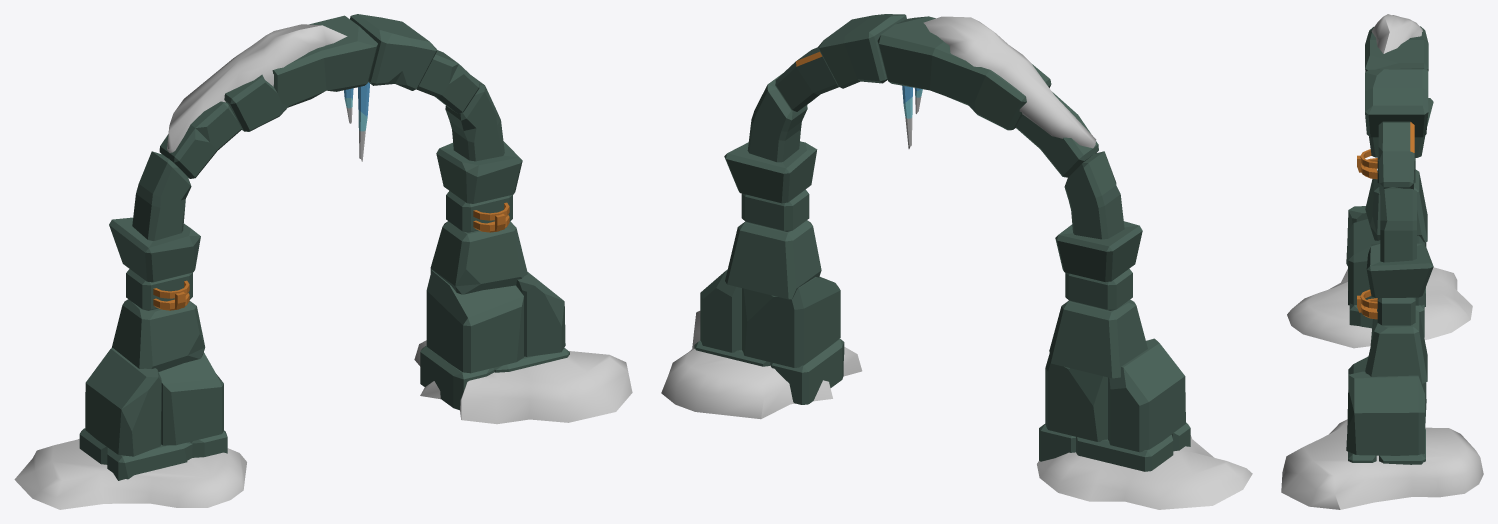
The model's file is ark.fbx.
The picture shows the model from 3 angles, left to right: view 1: azimuth 30°, elevation 25°; view 2: azimuth 150°, elevation 25°; view 3: azimuth 270°, elevation 25°; orthographic projection. The views are drawn at different scales.
Visible parts, largest first — view 1: ark; view 2: ark; view 3: ark.
Part boxes in pixels (x1,y1,x2,y2): ark: (14,14,632,509); ark: (661,14,1252,509); ark: (1281,14,1483,509).
Size of the model in its own units: 1062 by 721 by 366.
